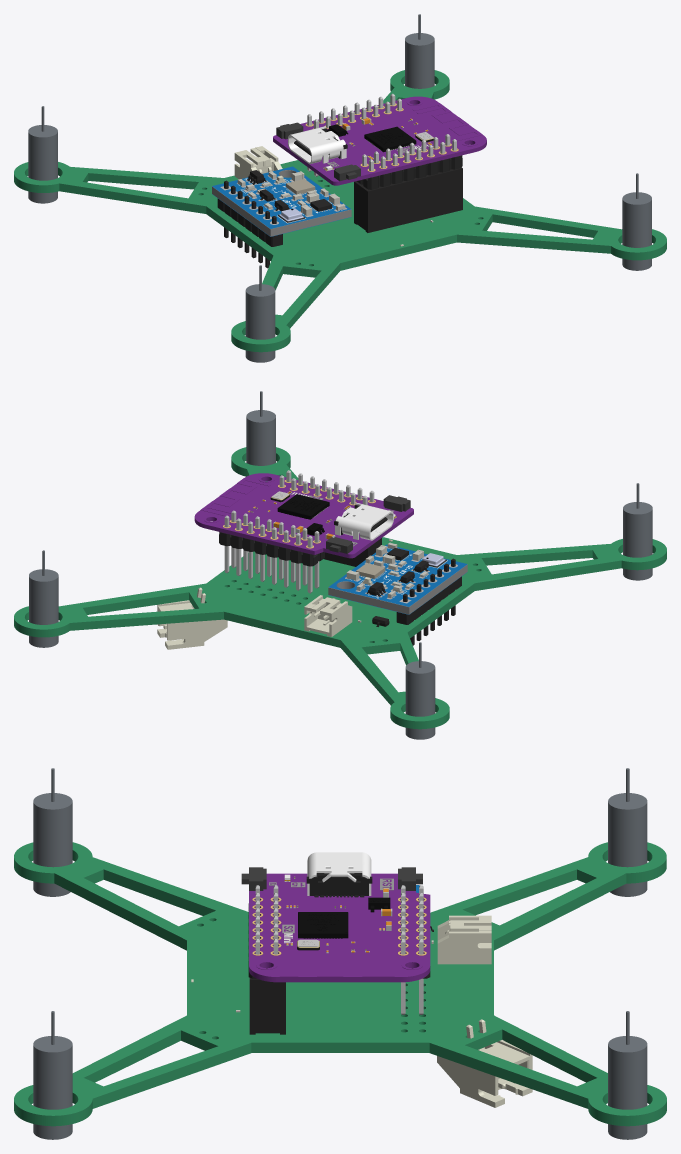
The model's file is final_drone.dae.
The picture shows the model from 3 angles, top to bottom: view 1: azimuth 30°, elevation 25°; view 2: azimuth 150°, elevation 25°; view 3: azimuth 270°, elevation 25°; orthographic projection. The views are drawn at different scales.
Parts seen in each view (by area): view 1: node4, node40, node12, node254, node3, node2, node1, node0, node256, node37, node38, node526 (+2 smaller); view 2: node4, node40, node254, node2, node3, node0, node13, node1, node11, node256, node37, node38 (+2 smaller); view 3: node4, node40, node1, node0, node3, node2, node13, node11, node12, node256, node462, node259.
Boxes of the visible parts, <box> form: node4: <box>14,70,666,352</box>; node40: <box>273,96,486,185</box>; node12: <box>354,168,462,232</box>; node254: <box>212,166,350,228</box>; node3: <box>245,265,275,362</box>; node2: <box>28,106,57,203</box>; node1: <box>622,173,651,270</box>; node0: <box>405,14,434,88</box>; node256: <box>288,126,346,164</box>; node37: <box>217,180,282,268</box>; node38: <box>212,170,351,236</box>; node526: <box>363,155,462,189</box>; node4: <box>14,447,666,729</box>; node40: <box>194,473,413,558</box>; node254: <box>328,544,467,606</box>; node2: <box>405,642,435,739</box>; node3: <box>623,483,652,580</box>; node0: <box>29,550,58,647</box>; node13: <box>157,587,227,649</box>; node1: <box>246,391,275,465</box>; node11: <box>304,595,352,636</box>; node256: <box>335,503,393,540</box>; node37: <box>396,558,461,645</box>; node38: <box>328,559,467,614</box>; node4: <box>14,842,666,1126</box>; node40: <box>249,873,430,982</box>; node1: <box>33,1011,72,1139</box>; node0: <box>608,1011,647,1139</box>; node3: <box>33,768,72,896</box>; node2: <box>608,768,647,896</box>; node13: <box>437,1019,532,1107</box>; node11: <box>437,915,491,964</box>; node12: <box>249,978,285,1034</box>; node256: <box>307,852,371,895</box>; node462: <box>298,912,348,938</box>; node259: <box>306,873,372,897</box>.
Size of the model in its own units: 0.0914 by 0.0915 by 0.023.
